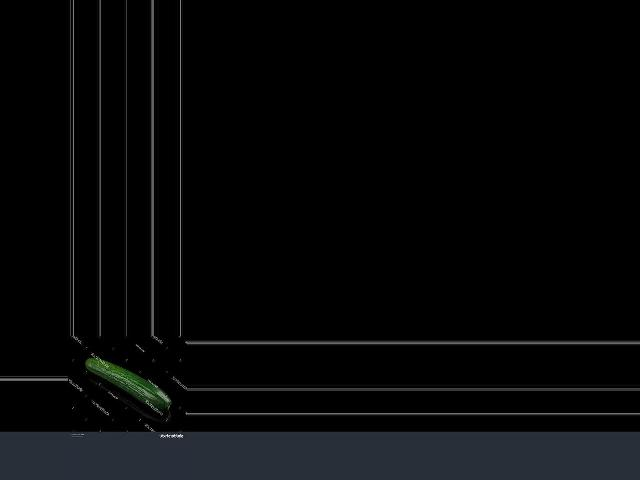cucumber: (84, 357, 170, 412)
